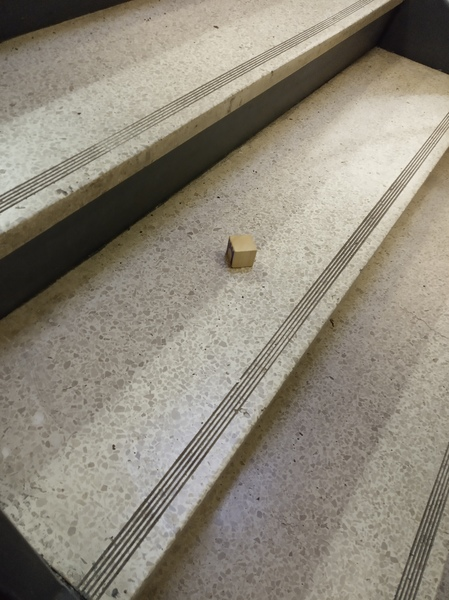violet: (221, 232, 259, 269)
